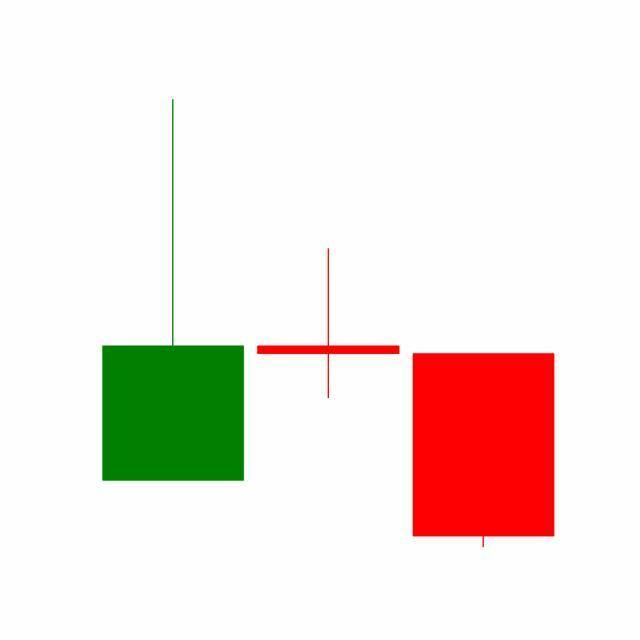Spinning Top: (250, 247, 407, 401)
